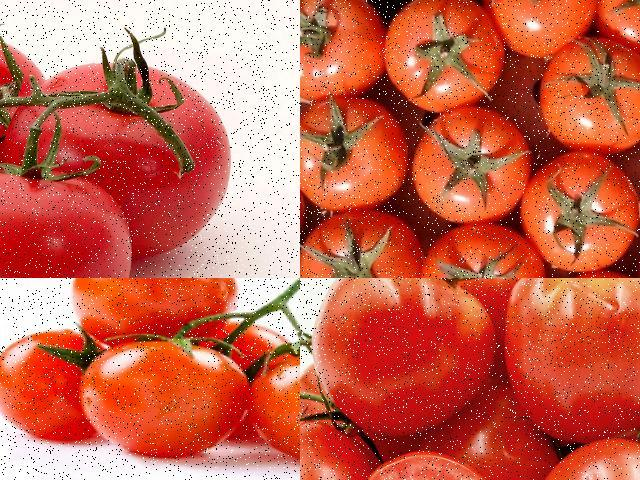tomato: (27, 60, 244, 261), (313, 278, 499, 437), (507, 278, 639, 442), (87, 341, 246, 464), (0, 166, 143, 277), (0, 327, 120, 457), (383, 0, 505, 112), (412, 104, 524, 220), (522, 158, 638, 267), (425, 381, 554, 479), (300, 100, 411, 209), (63, 278, 243, 344), (540, 39, 639, 153), (300, 0, 389, 99), (300, 211, 420, 277), (482, 0, 603, 60), (0, 37, 47, 185), (418, 226, 547, 277), (247, 346, 299, 470), (429, 278, 567, 315), (599, 0, 639, 59)
